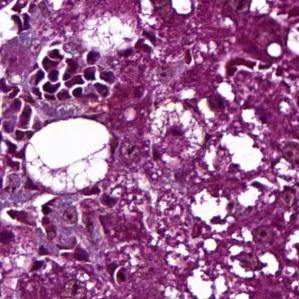ballooning: (20, 116, 116, 195)
